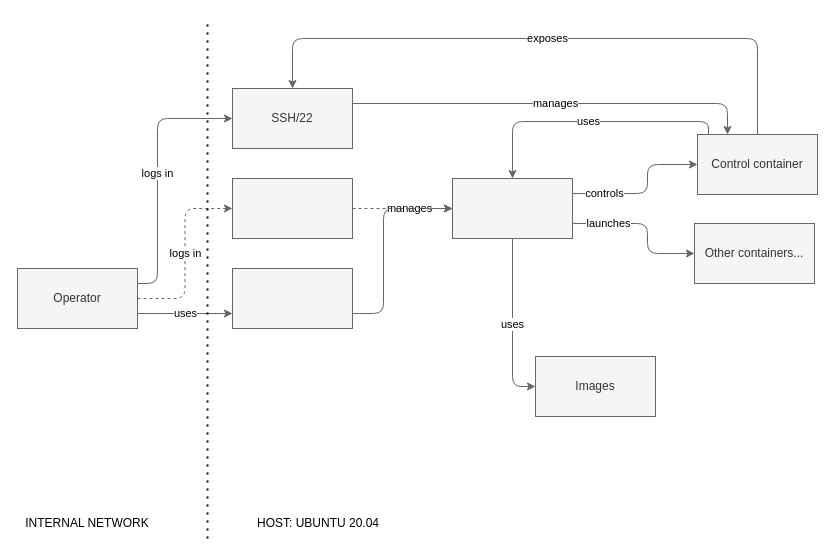
This 835x557 diagram has some shape labels left out. The shapes that lost their labels are listed below. From the top down, each one's box as (x1, y1, x2, y2) in pixels, then its label:
(232, 178, 352, 238): SSH/2222
(452, 178, 572, 238): Docker Daemon
(232, 268, 352, 328): Docker/2375
